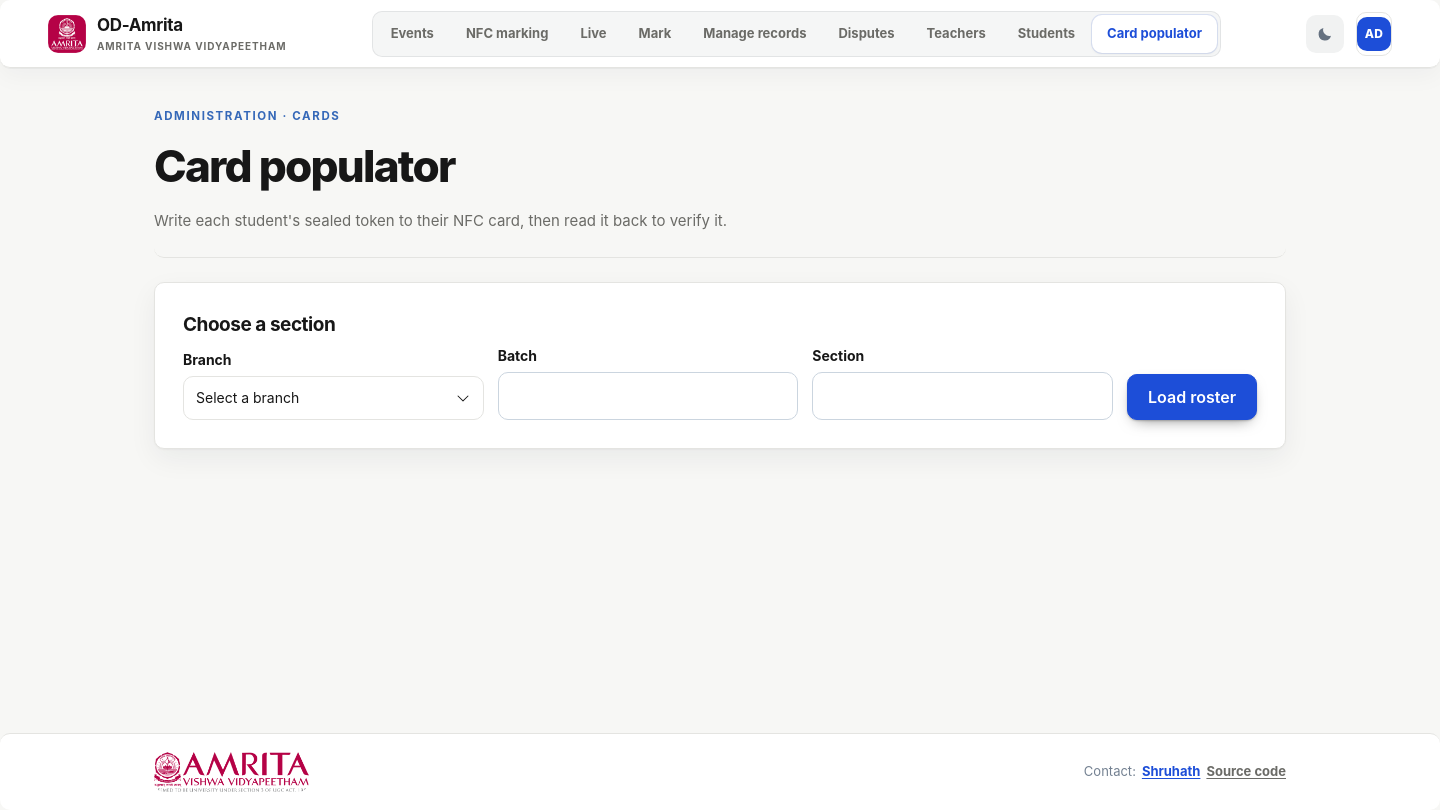
Card populator portal › [P0] requires NFC permission before loading the RBAC-gated roster
This screenshot has width=1440, height=810.
Expected: the heading "Card populator" is shown, [154,139,455,193]
Click the dropdown labelled "branch": (248, 398) [183,376,484,420]
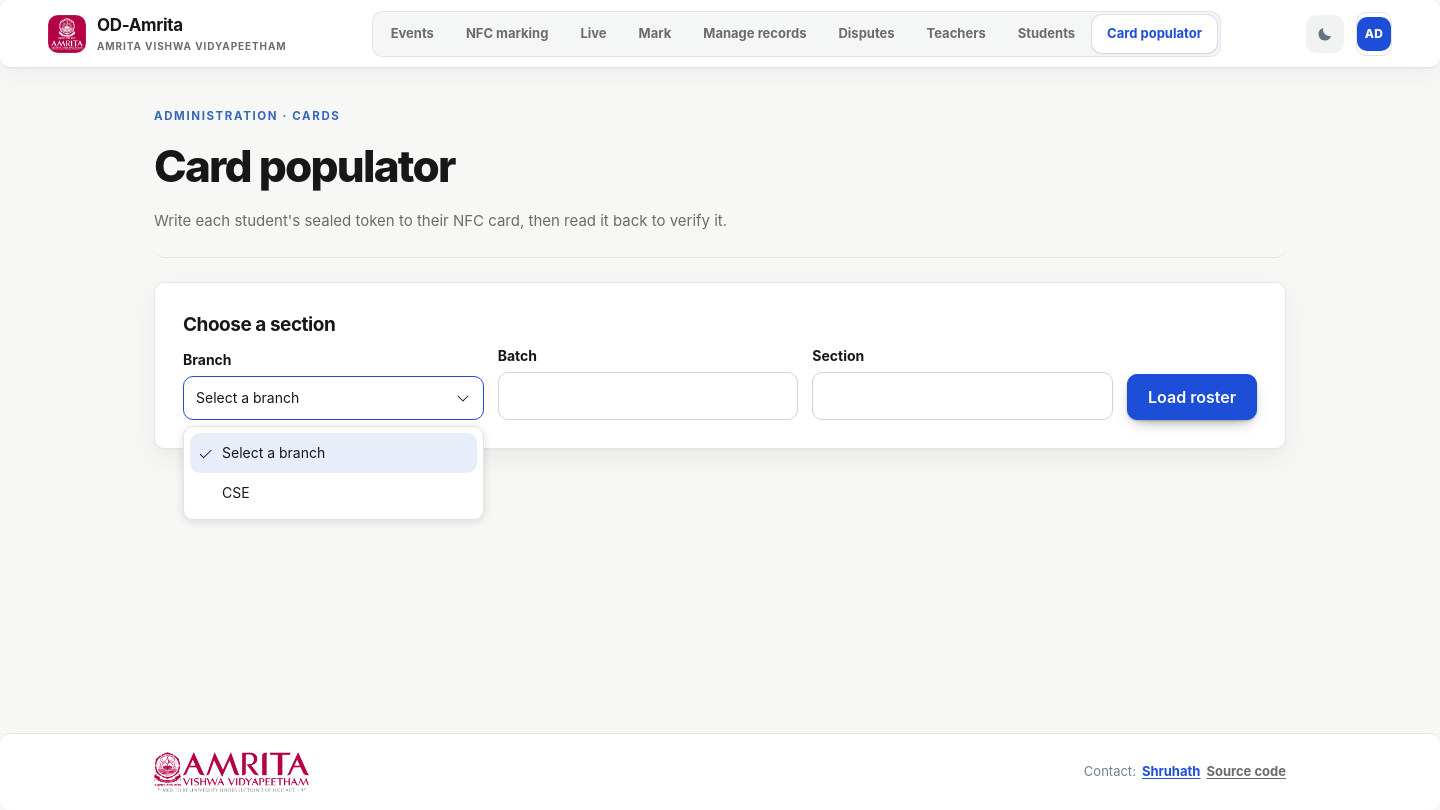
Click the option "CSE": (236, 492) [222,484,250,501]
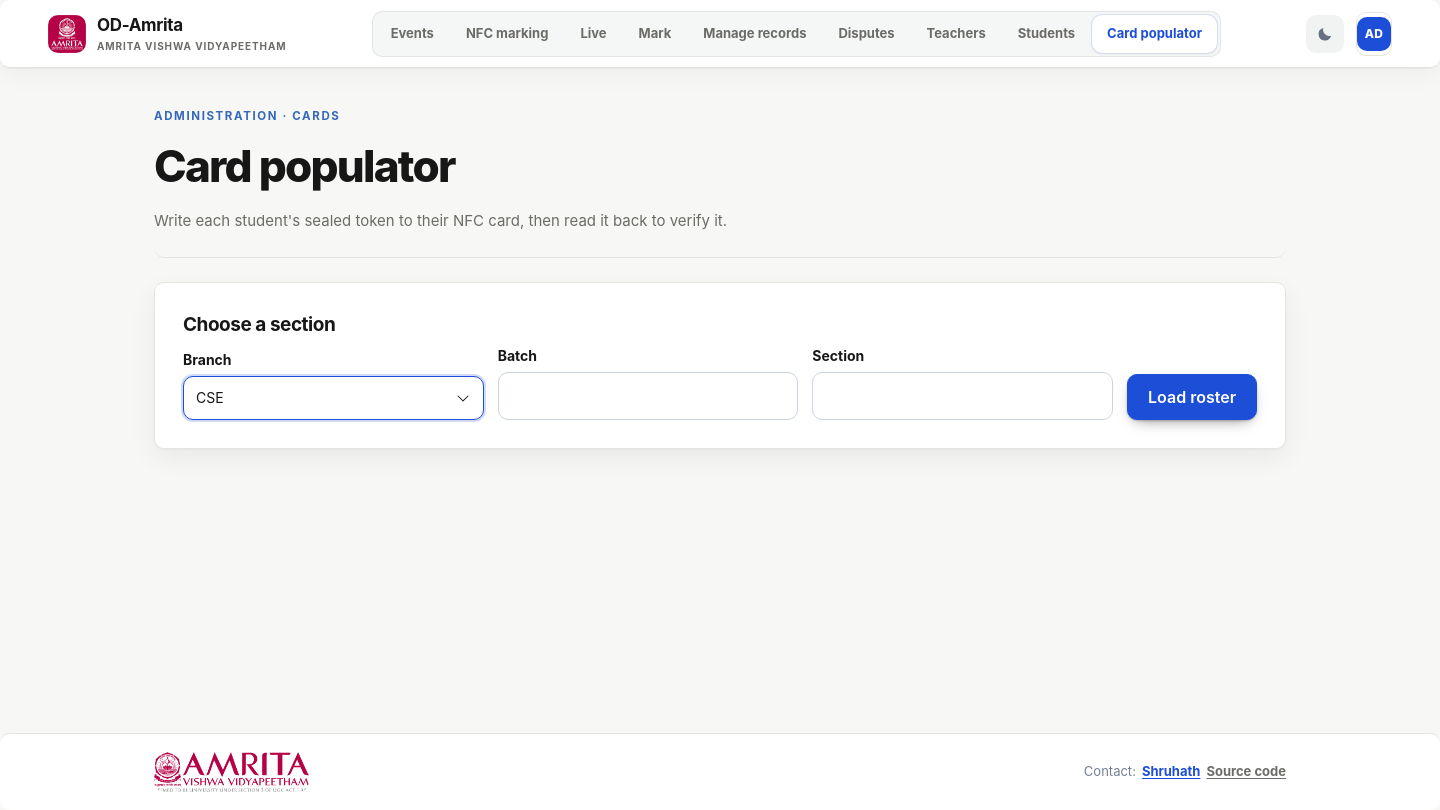
In the field labelled "Batch": (648, 396) [498,372,798,420], type "2024"
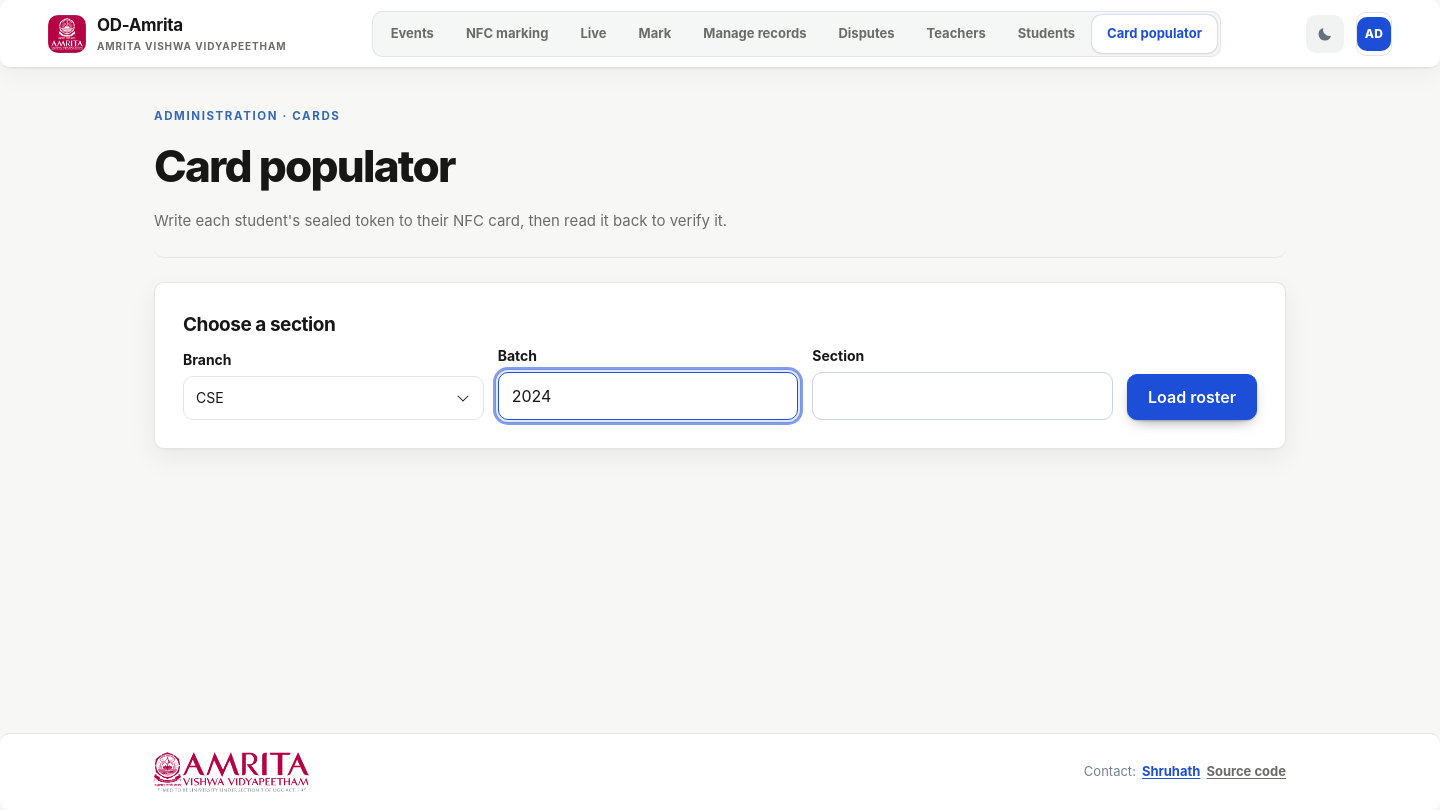
In the field labelled "Section": (963, 396) [812,372,1113,420], type "A"
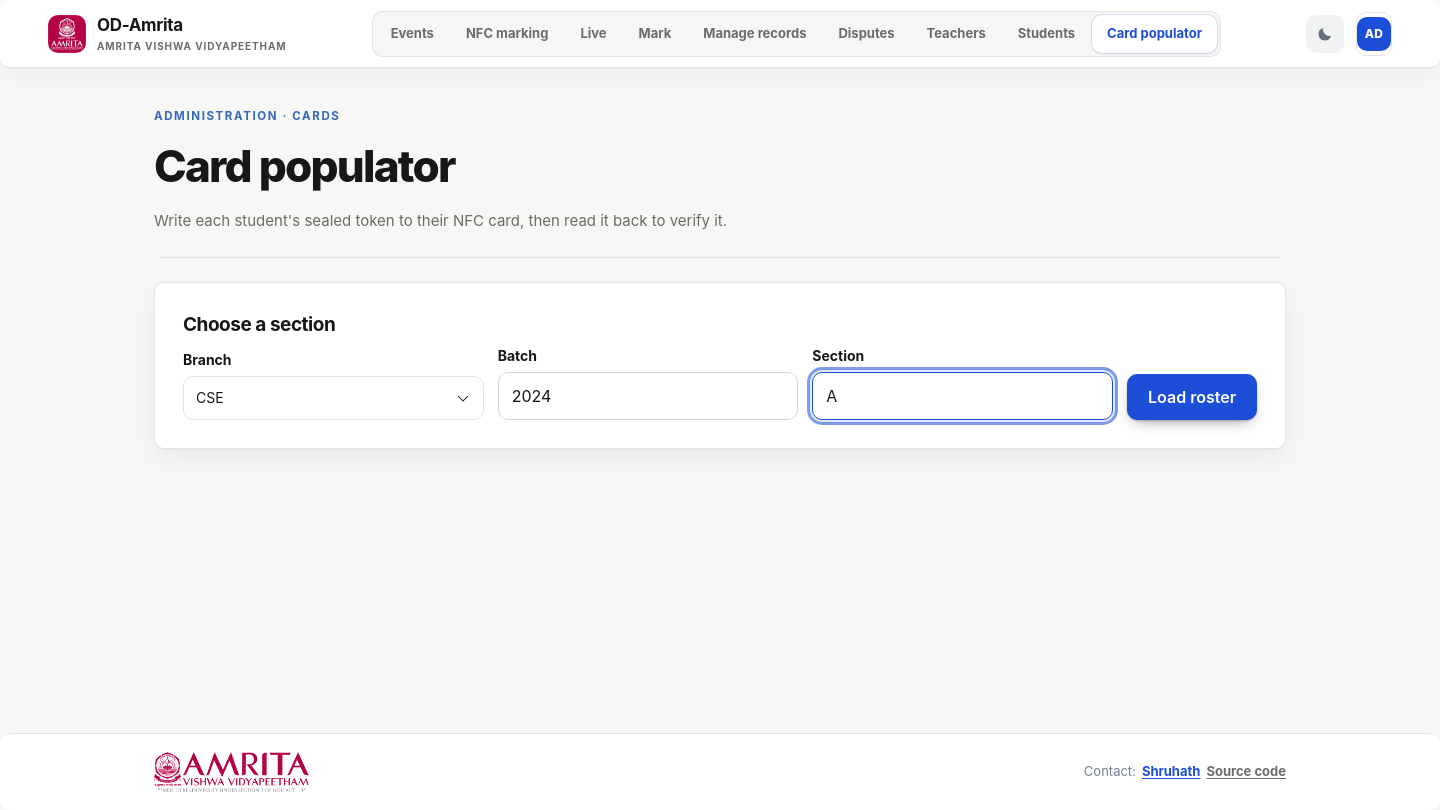
Click the button "Load roster": (1192, 397) [1127,374,1257,420]
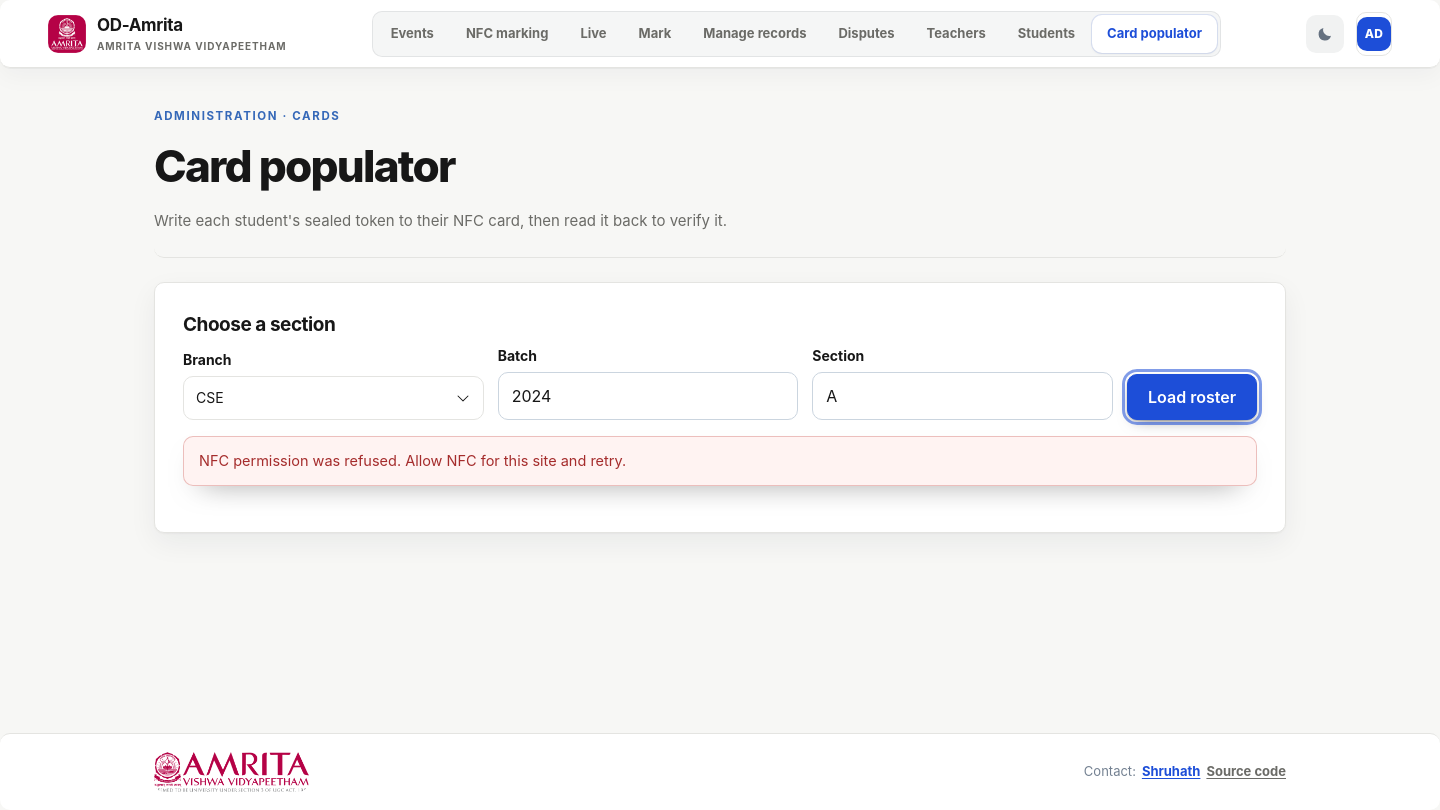
Now the message shows "NFC permission was refused", box [199,452,626,469]
